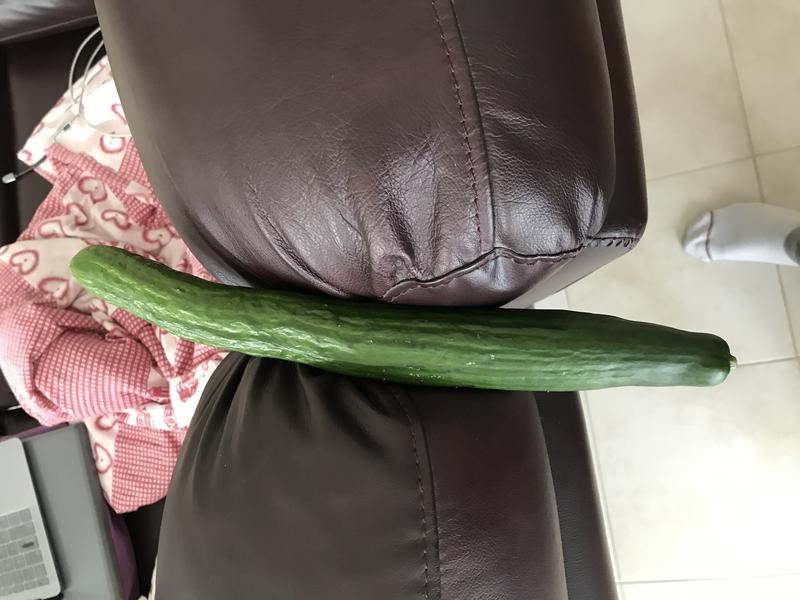cucumber: (62, 240, 749, 409)
